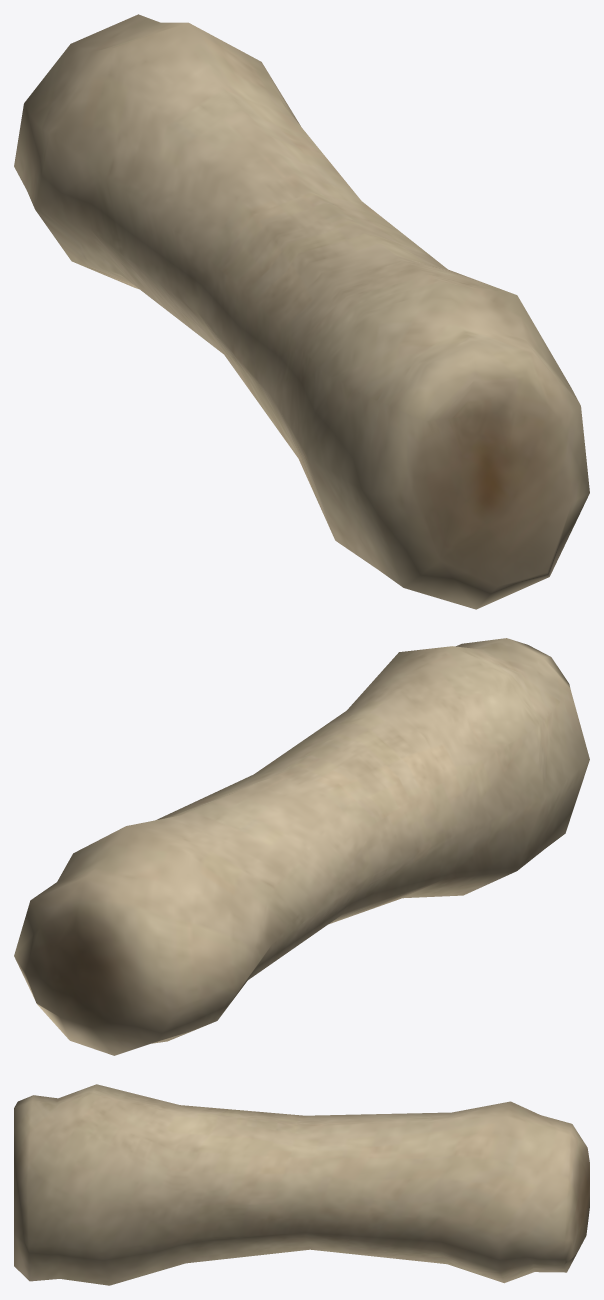
File: Caudal_Vertebrae12.glb
3 views of the same model, one above another, from view 1: azimuth 30°, elevation 25°; view 2: azimuth 150°, elevation 25°; view 3: azimuth 270°, elevation 25° (orthographic). The views are drawn at different scales.
Parts seen in each view (by area): view 1: Caudal_Vertebrae_31:Group52900; view 2: Caudal_Vertebrae_31:Group52900; view 3: Caudal_Vertebrae_31:Group52900.
Part boxes in pixels (left/top/right/bottom): Caudal_Vertebrae_31:Group52900: left=14, top=14, right=589, bottom=609; Caudal_Vertebrae_31:Group52900: left=14, top=638, right=589, bottom=1055; Caudal_Vertebrae_31:Group52900: left=14, top=1084, right=589, bottom=1285.
Size of the model in its own units: 7 by 6.34 by 18.13.
Materials: 1 (1 with a texture image).
